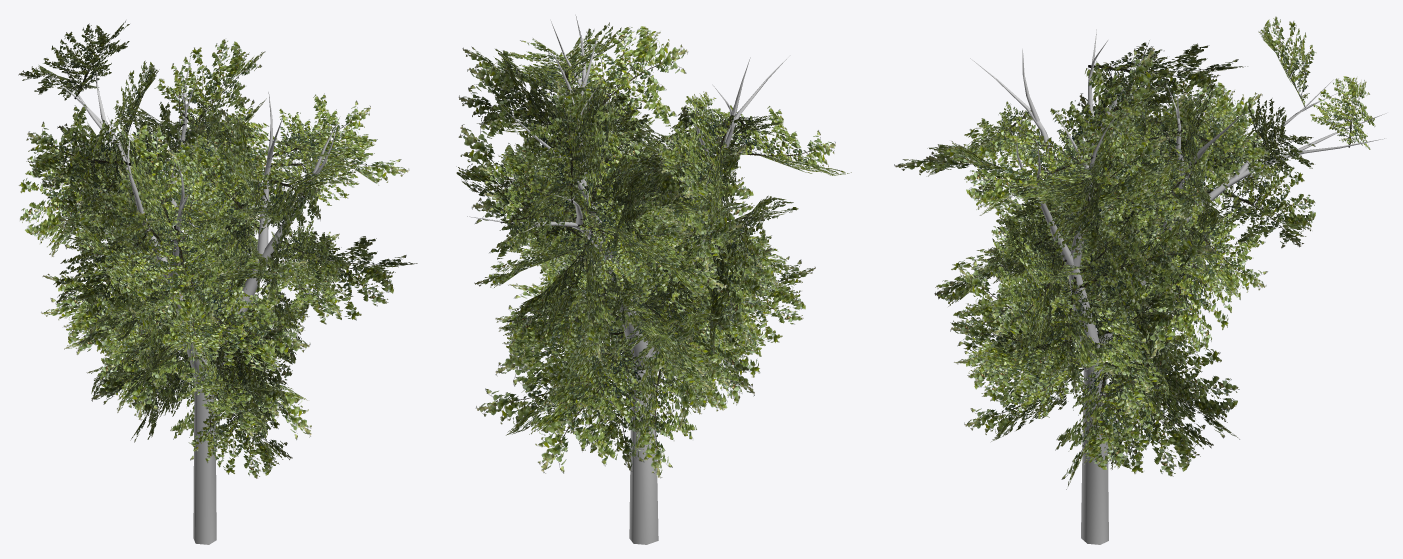
File: tree3.002.fbx
3 views of the same model, side by side, from view 1: azimuth 30°, elevation 25°; view 2: azimuth 150°, elevation 25°; view 3: azimuth 270°, elevation 25° (orthographic). The views are drawn at different scales.
Parts seen in each view (by area): view 1: tree3.002; view 2: tree3.002; view 3: tree3.002.
Boxes of the visible parts, bbox=[...] form: tree3.002: bbox=[18, 21, 417, 544]; tree3.002: bbox=[456, 15, 851, 544]; tree3.002: bbox=[894, 16, 1386, 544].
Size of the model in its own units: 1.9 by 2.81 by 2.5.
